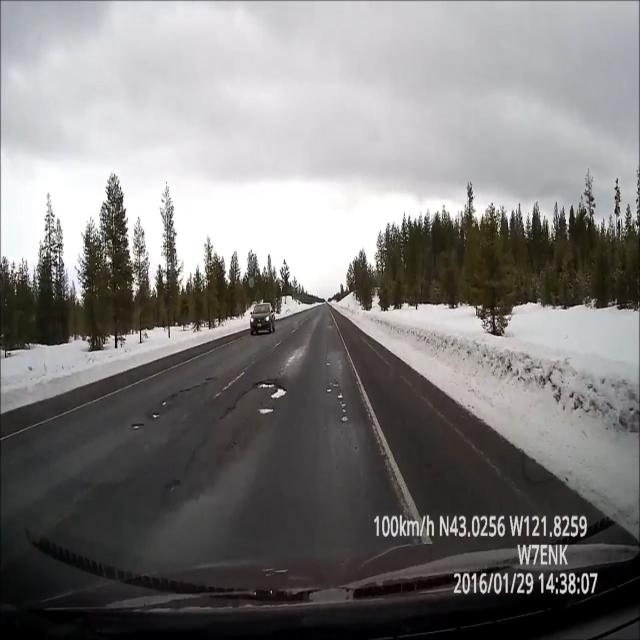Pothole: (252, 369, 286, 424)
